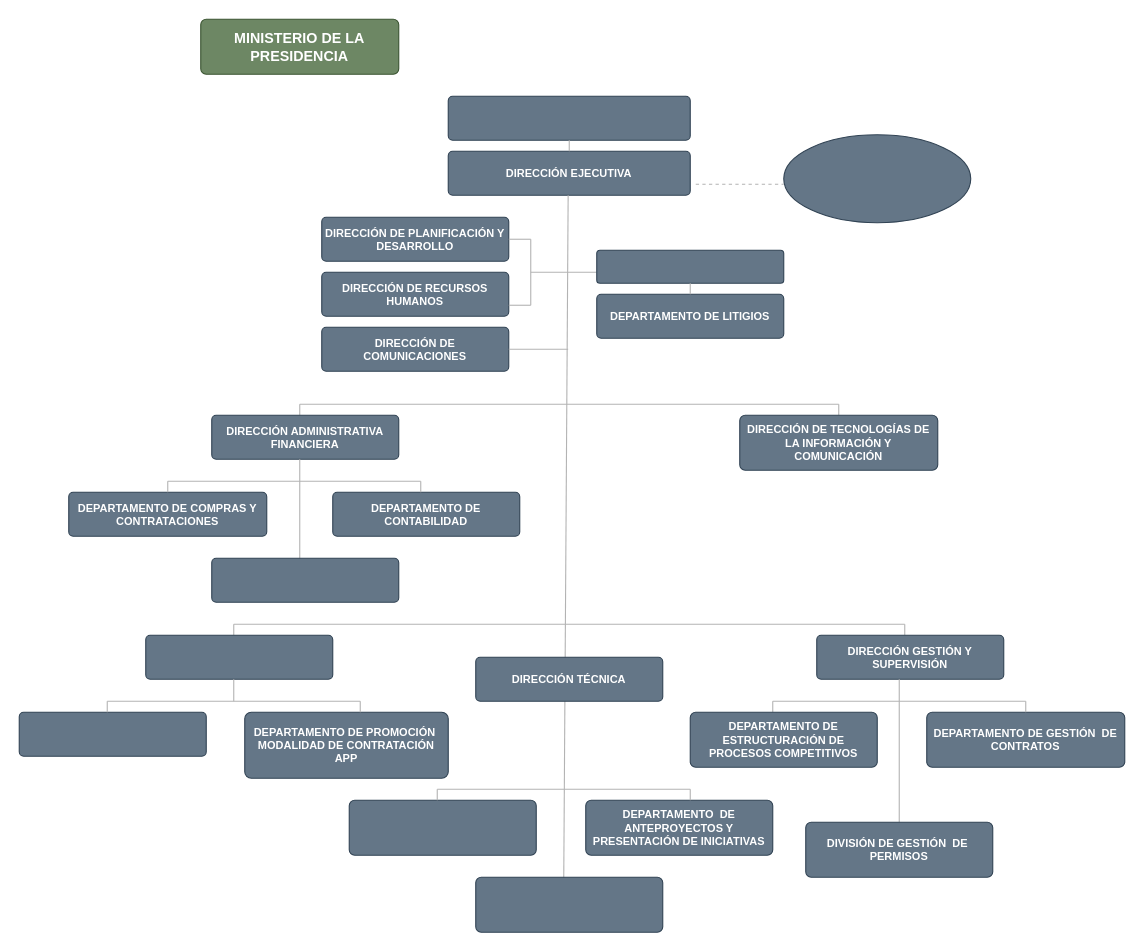
Some shapes in this 1144 by 952 pixel diagram are drawn without their labels. The box of each missing label's shape, as (x1, y1, x2, y2) in pixels:
AUDITORIA GUBERNAMENTAL: (783, 134, 971, 223)
CONSEJO NACIONAL DE ALIANZAS PÚBLICO PRIVADAS: (447, 95, 690, 140)
DEPARTAMENTO DE ANÀLISIS Y EVALUACIÓN DE PROYECTOS: (348, 799, 536, 855)
DEPARTAMENTO DE FOMENTO DE LA COMPETENCIA: (18, 711, 206, 756)
DEPARTAMENTO DE REGISTROS Y BANCO DE PROYECTOS: (475, 876, 663, 932)
DIRECCIÓN DE PROMOCIÓN DE ALIANZAS PÚBLICO PRIVADAS: (145, 634, 333, 679)
DIRECCIÓN JURÍDICA: (596, 249, 784, 283)
DIVISIÓN DE SERVICIOS GENERALES: (211, 557, 399, 602)
